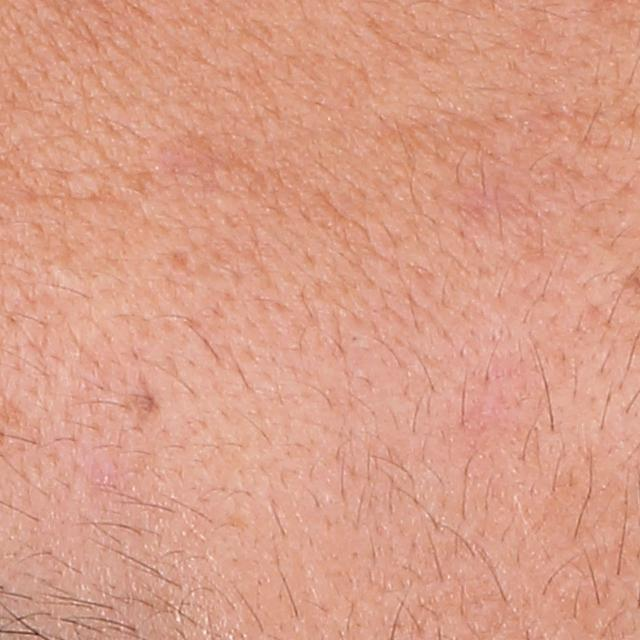atrophic_scar: (166, 246, 197, 281)
melasma: (115, 377, 167, 437)
